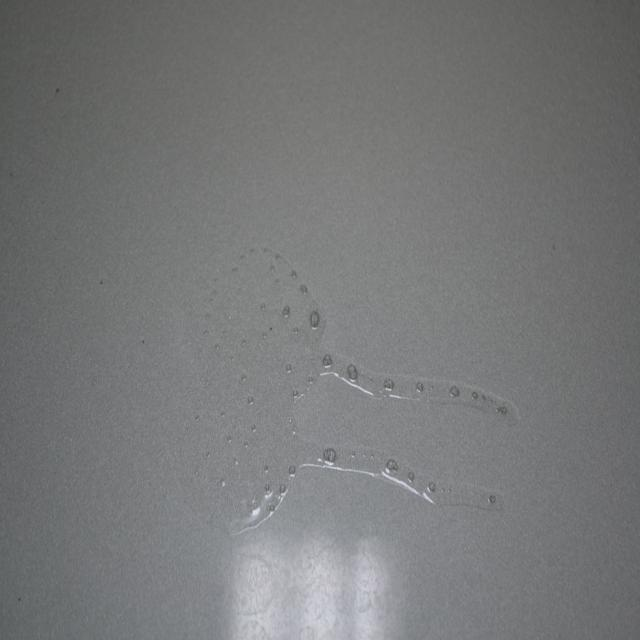dirt: (139, 335, 147, 348), (54, 83, 60, 98), (98, 276, 103, 290), (8, 169, 14, 177)
runs: (176, 245, 519, 538)
